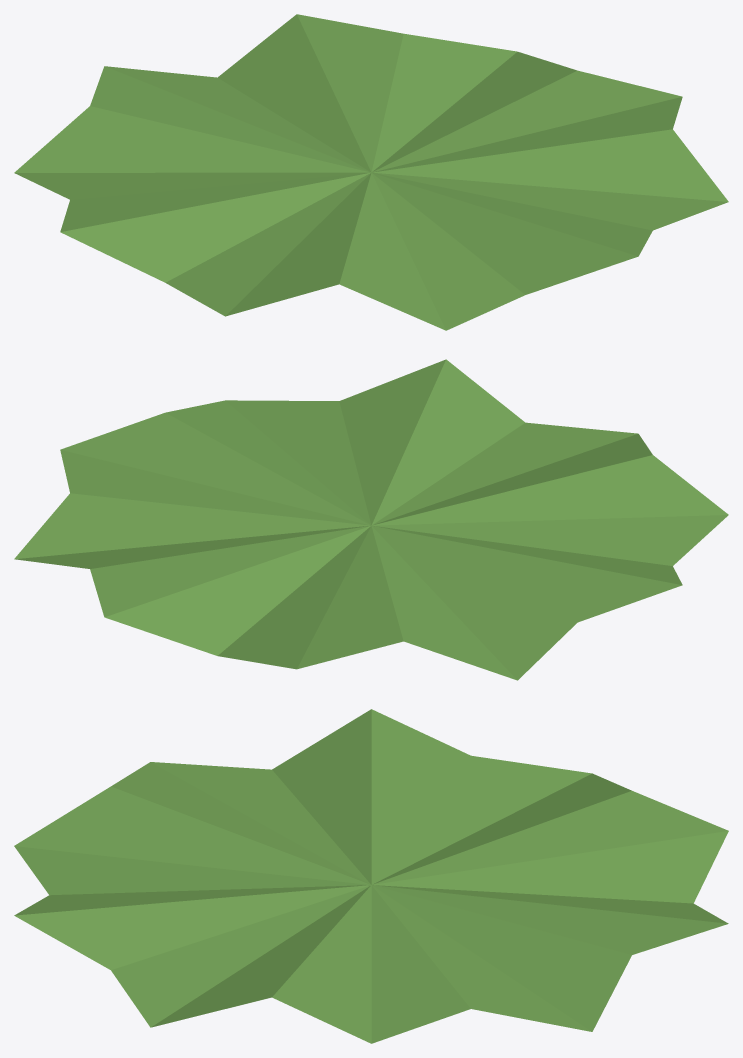
File: LettuceLeaf.glb
3 renders of one model, top to bottom at view 1: azimuth 30°, elevation 25°; view 2: azimuth 150°, elevation 25°; view 3: azimuth 270°, elevation 25°, orthographic. The views are drawn at different scales.
Parts seen in each view (by area): view 1: LettuceLeaf; view 2: LettuceLeaf; view 3: LettuceLeaf.
Part boxes in pixels (bbox=[...]): LettuceLeaf: bbox=[14, 14, 728, 330]; LettuceLeaf: bbox=[14, 359, 728, 680]; LettuceLeaf: bbox=[14, 709, 728, 1043].
Bounding box in the file's own units: 0.182 × 0.00991 × 0.1731.
